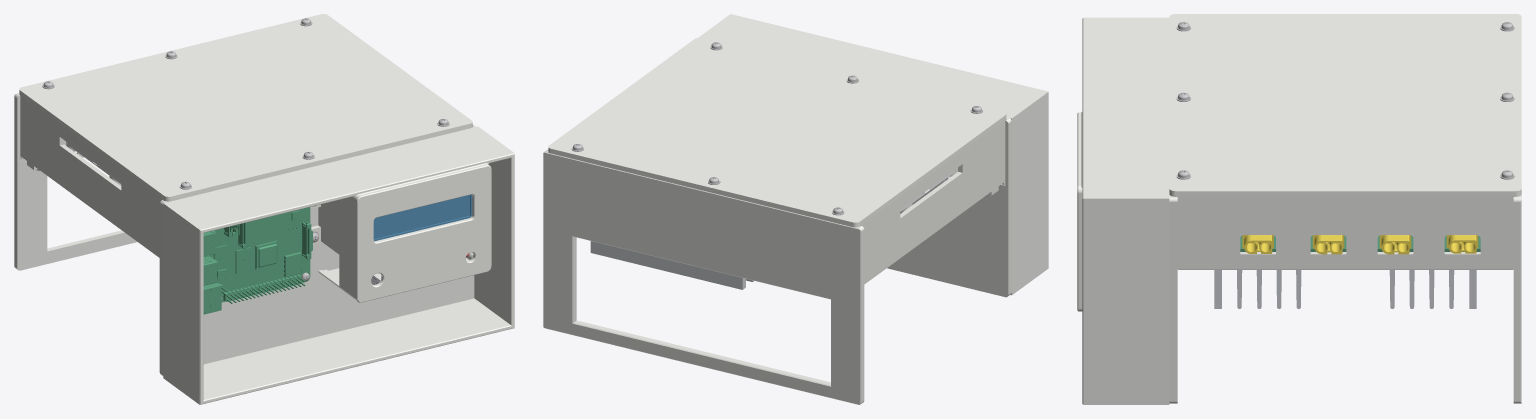
Rendered from enclosure.glb.
3 renders of one model, left to right at view 1: azimuth 30°, elevation 25°; view 2: azimuth 150°, elevation 25°; view 3: azimuth 270°, elevation 25°, orthographic. The views are drawn at different scales.
Parts seen in each view (by area): view 1: UI_Pod, Lid, Side_Walls, End_Panels, Raspberry_Pi, LCD, Fasteners; view 2: Lid, Side_Walls, UI_Pod, End_Panels, Heatsink, Fasteners; view 3: Lid, UI_Pod, End_Panels, Side_Walls, XT60, Heatsink, Fasteners, Belly_Pan, PCB.
Part boxes in pixels (x1,y1,x2,y2): UI_Pod: [163, 126, 514, 404]; Lid: [19, 14, 472, 201]; Side_Walls: [14, 93, 475, 375]; End_Panels: [20, 95, 164, 257]; Raspberry_Pi: [203, 207, 312, 314]; LCD: [373, 194, 472, 241]; Fasteners: [36, 18, 449, 299]; Lid: [548, 38, 1006, 227]; Side_Walls: [543, 117, 1011, 404]; UI_Pod: [698, 14, 1048, 295]; End_Panels: [860, 120, 1005, 284]; Heatsink: [590, 241, 753, 289]; Fasteners: [571, 42, 989, 215]; Lid: [1169, 14, 1521, 196]; UI_Pod: [1077, 17, 1169, 404]; End_Panels: [1175, 196, 1515, 268]; Side_Walls: [1169, 195, 1521, 403]; XT60: [1242, 235, 1478, 254]; Heatsink: [1214, 270, 1476, 308]; Fasteners: [1176, 22, 1514, 179]; Belly_Pan: [1177, 268, 1513, 269]; PCB: [1240, 235, 1480, 251].
Size of the model in its own units: 210 by 117 by 217.
